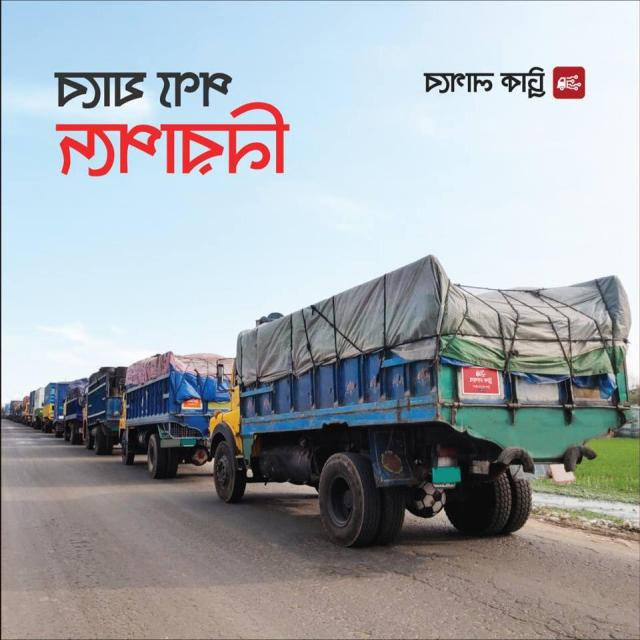truck: (214, 252, 631, 558), (118, 350, 235, 476), (83, 368, 132, 451), (61, 383, 84, 438), (42, 383, 56, 423)
